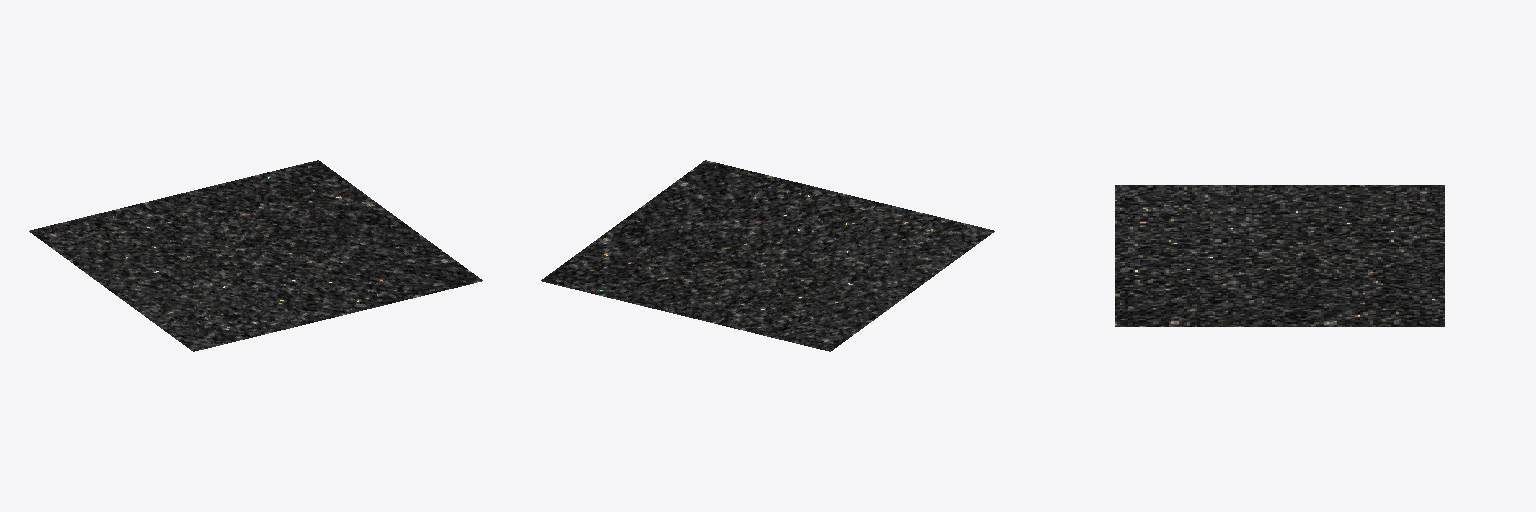
3 renders of one model, left to right at view 1: azimuth 30°, elevation 25°; view 2: azimuth 150°, elevation 25°; view 3: azimuth 270°, elevation 25°, orthographic.
Size of the model in its own units: 2.03 by 0 by 2.
Materials: 1 (1 with a texture image).